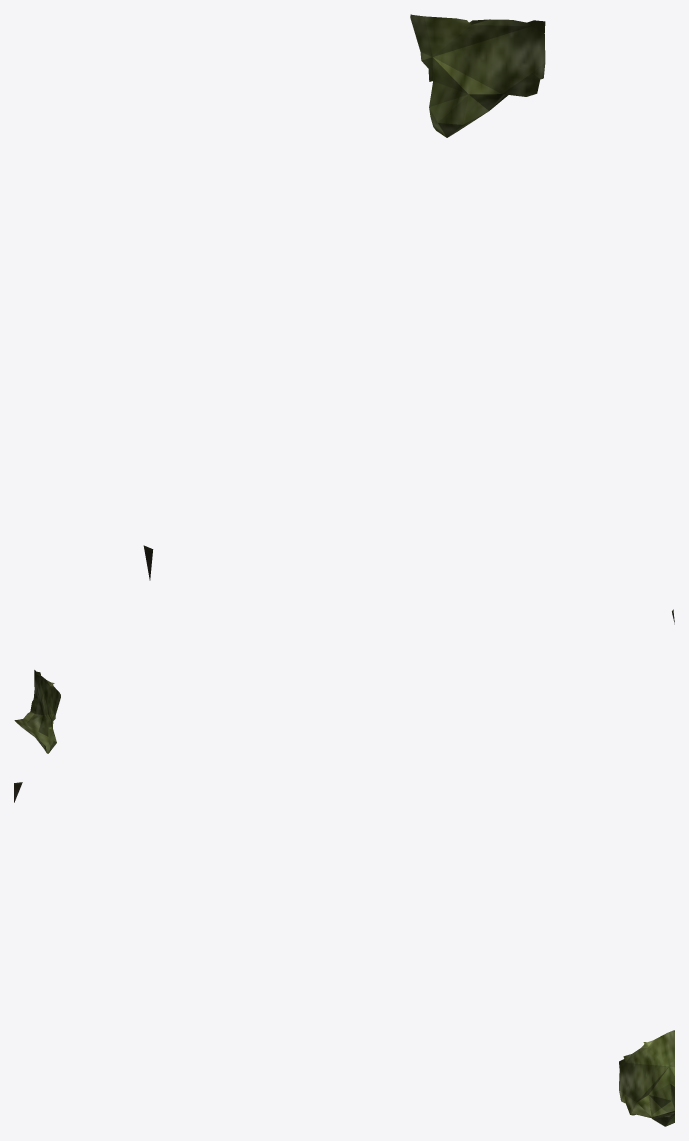
The picture shows the model from 3 angles, top to bottom: view 1: azimuth 30°, elevation 25°; view 2: azimuth 150°, elevation 25°; view 3: azimuth 270°, elevation 25°; orthographic projection. The views are drawn at different scales.
Bounding box in the file's own units: 5.9 × 0.8481 × 5.9.
Materials: 1 (1 with a texture image).
